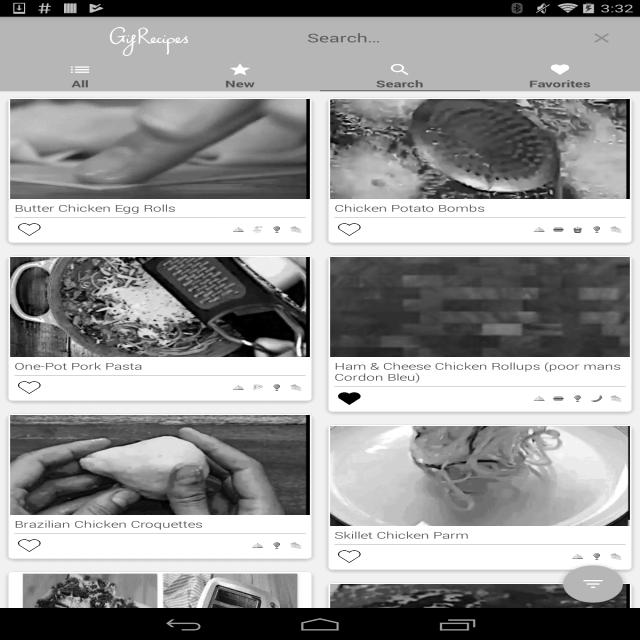EditText: (299, 26, 580, 50)
ImageButton: (544, 547, 640, 621)
ImageView: (10, 99, 310, 199), (330, 99, 630, 199), (10, 257, 310, 357), (10, 415, 310, 515), (330, 257, 630, 357), (330, 426, 630, 526), (10, 573, 310, 640), (330, 584, 630, 640), (493, 62, 627, 77), (182, 62, 298, 77), (342, 62, 458, 77), (580, 22, 623, 54), (330, 386, 369, 411), (10, 218, 49, 242), (330, 218, 369, 242), (10, 376, 49, 400), (10, 534, 49, 558), (330, 544, 369, 568), (63, 62, 97, 77), (286, 223, 306, 236), (606, 223, 626, 236), (229, 223, 248, 236), (248, 223, 267, 236), (549, 223, 568, 236), (568, 223, 587, 236), (286, 382, 306, 394), (286, 540, 306, 552), (606, 392, 626, 404), (606, 550, 626, 562), (268, 223, 286, 236), (530, 223, 548, 236), (588, 223, 606, 236), (229, 382, 248, 394), (248, 382, 267, 394), (248, 540, 267, 552), (549, 392, 568, 404), (568, 392, 587, 404), (568, 550, 587, 562), (268, 382, 286, 394), (268, 540, 286, 552), (530, 392, 548, 404), (588, 392, 606, 404), (588, 550, 606, 562)
TextView: (330, 357, 630, 386), (10, 199, 310, 217), (330, 199, 630, 217), (10, 357, 310, 375), (10, 515, 310, 533), (330, 526, 630, 544), (110, 20, 189, 56), (529, 77, 591, 90), (376, 77, 423, 90), (225, 77, 255, 90), (72, 77, 88, 90)
